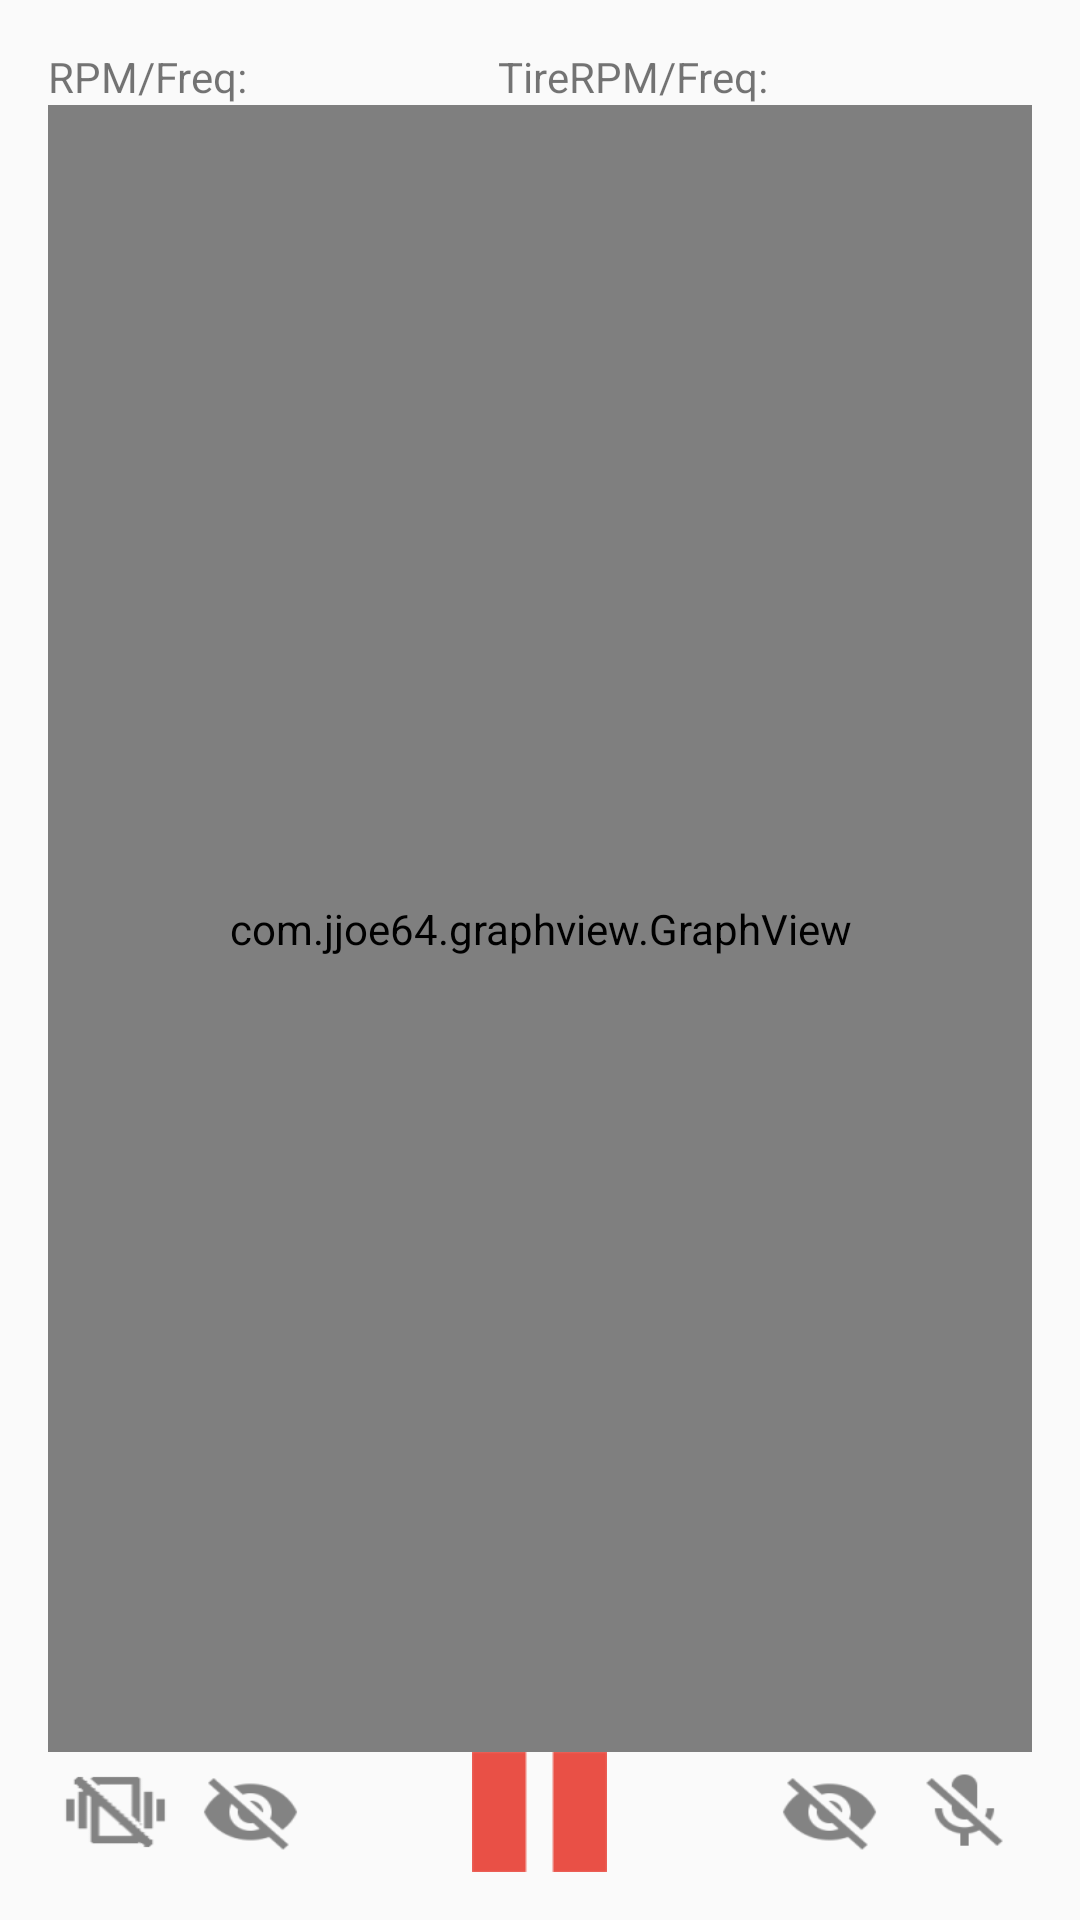

Named icons in this screenshot (1080 x 1920) and their centers, (x,y):
toggle mic: (964,1810)
toggle pause: (539,1812)
toggle vib: (115,1812)
toggle visible: (250,1814), (829,1814)
